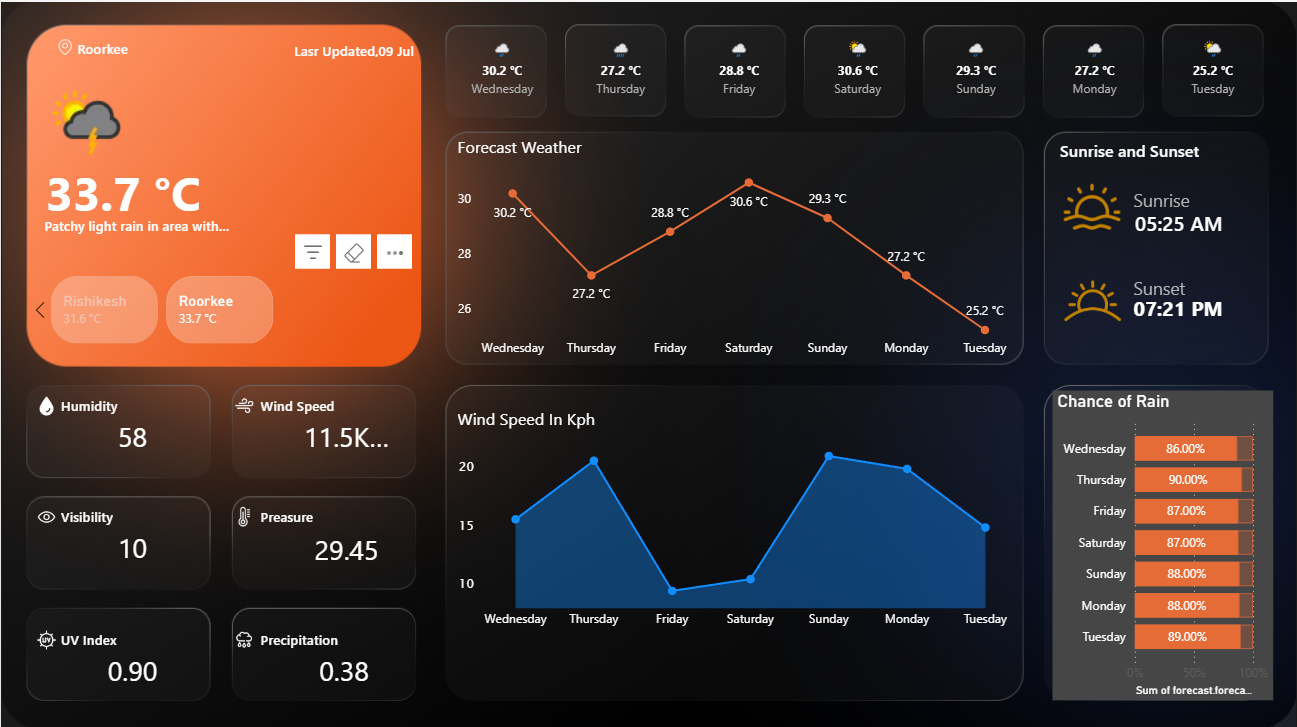

The dashboard page shown, as its layout file describes it:
{"tool":"powerbi","page":{"name":"Page 1","canvas":[1280,720],"ordinal":0},"visuals":[{"type":"advancedSlicerVisual","fields":{"Values":["Locations.location.name"]},"box":[23.9,264.6,384,77.6],"z":0},{"type":"shape","box":[43.8,153.2,210.9,67.6],"z":1000},{"type":"shape","box":[43.5,206,211.7,28.3],"z":2000},{"type":"shape","box":[75.6,31.8,121.4,29.8],"z":3000},{"type":"shape","box":[197,35.8,210.9,23.9],"z":4000},{"type":"image","box":[49.7,29.8,25.9,29.8],"z":5000},{"type":"cardVisual","fields":{"Data":["Min(Current.current.condition.icon)"]},"box":[23.9,59.7,113.4,105.5],"z":6000},{"type":"image","box":[30,384,30,30],"z":7000},{"type":"image","box":[225.6,383.4,30,30],"z":8000},{"type":"image","box":[30,493.4,30,30],"z":9000},{"type":"image","box":[225.6,493.8,30,30],"z":10000},{"type":"image","box":[30,614.8,30,30],"z":11000},{"type":"image","box":[225.6,615.3,30,30],"z":12000},{"type":"shape","box":[60,383.4,137.3,30],"z":13000},{"type":"shape","box":[60,493.8,137.3,30],"z":14000},{"type":"shape","box":[60,615.3,137.3,30],"z":15000},{"type":"shape","box":[255.6,383.4,137.3,30],"z":16000},{"type":"shape","box":[255.6,615.3,137.3,30],"z":17000},{"type":"shape","box":[255.6,493.8,137.3,30],"z":18000},{"type":"card","fields":{"Values":["Sum(Current.current.humidity)"]},"box":[93.1,399.1,72.6,63.1],"z":19000},{"type":"card","fields":{"Values":["MeasureTable.Wind_Speed"]},"box":[288.7,399.1,104.1,63.1],"z":20000},{"type":"card","fields":{"Values":["Sum(Current.current.pressure_in)"]},"box":[288.7,509.6,104.1,63.1],"z":21000},{"type":"card","fields":{"Values":["Sum(Current.current.vis_km)"]},"box":[93.1,508,72.6,63.1],"z":22000},{"type":"card","fields":{"Values":["Sum(Current.current.uv)"]},"box":[93.1,629.5,72.6,63.1],"z":23000},{"type":"card","fields":{"Values":["Sum(Current.current.precip_mm)"]},"box":[302.9,629.5,72.6,63.1],"z":24000},{"type":"advancedSlicerVisual","fields":{"Values":["Forecast_Day.Day_Name"]},"box":[435.4,30,823.5,82],"z":25000},{"type":"lineChart","title":"Forecast Weather","fields":{"Y":["Sum(Forecast_Day.forecast.forecastday.day.avgtemp_c)"],"Category":["Forecast_Day.Day_Name"]},"box":[446.5,132.5,561.6,227.2],"z":26000},{"type":"shape","box":[1046,132.5,200.4,30],"z":27000},{"type":"shape","box":[1119.6,183.5,99.4,67.8],"z":28000},{"type":"shape","box":[1119.1,268.7,99.4,67.8],"z":29000},{"type":"shape","box":[1118,177.2,99.4,34.7],"z":30000},{"type":"shape","box":[1118,269.3,99.4,25.2],"z":31000},{"type":"image","box":[1034.9,168.8,83.6,66.3],"z":32000},{"type":"image","box":[1034.9,250.8,85.2,89.9],"z":33000},{"type":"hundredPercentStackedBarChart","title":"Chance of Rain","fields":{"Y":["Sum(Forecast_Day.forecast.forecastday.day.daily_chance_of_rain)","MeasureTable.Left_Value_Rain"],"Category":["Forecast_Day.Day_Name"]},"box":[1038.1,383.4,217.7,306.1],"z":34000},{"type":"lineChart","title":"Wind Speed In Kph","fields":{"Category":["Forecast_Day.Day_Name"],"Y":["Sum(Forecast_Day.forecast.forecastday.day.maxwind_kph)"]},"box":[446.6,399.7,562,227.5],"z":35000}]}

Visuals, with their boxes in screenshot pixels (x1, y1, x2, y2), scaled from the page's 1280x720 canvas onto the 1297x727 screenshot:
advancedSlicerVisual - Locations.location.name: 24, 267, 413, 346
shape: 44, 155, 258, 223
shape: 44, 208, 259, 237
shape: 77, 32, 200, 62
shape: 200, 36, 413, 60
image: 50, 30, 77, 60
cardVisual - Min(Current.current.condition.icon): 24, 60, 139, 167
image: 30, 388, 61, 418
image: 229, 387, 259, 417
image: 30, 498, 61, 528
image: 229, 499, 259, 529
image: 30, 621, 61, 651
image: 229, 621, 259, 652
shape: 61, 387, 200, 417
shape: 61, 499, 200, 529
shape: 61, 621, 200, 652
shape: 259, 387, 398, 417
shape: 259, 621, 398, 652
shape: 259, 499, 398, 529
card - Sum(Current.current.humidity): 94, 403, 168, 467
card - MeasureTable.Wind_Speed: 293, 403, 398, 467
card - Sum(Current.current.pressure_in): 293, 515, 398, 578
card - Sum(Current.current.vis_km): 94, 513, 168, 577
card - Sum(Current.current.uv): 94, 636, 168, 699
card - Sum(Current.current.precip_mm): 307, 636, 380, 699
advancedSlicerVisual - Forecast_Day.Day_Name: 441, 30, 1276, 113
"Forecast Weather" lineChart: 452, 134, 1021, 363
shape: 1060, 134, 1263, 164
shape: 1134, 185, 1235, 254
shape: 1134, 271, 1235, 340
shape: 1133, 179, 1234, 214
shape: 1133, 272, 1234, 297
image: 1049, 170, 1133, 237
image: 1049, 253, 1135, 344
"Chance of Rain" hundredPercentStackedBarChart: 1052, 387, 1272, 696
"Wind Speed In Kph" lineChart: 453, 404, 1022, 633
